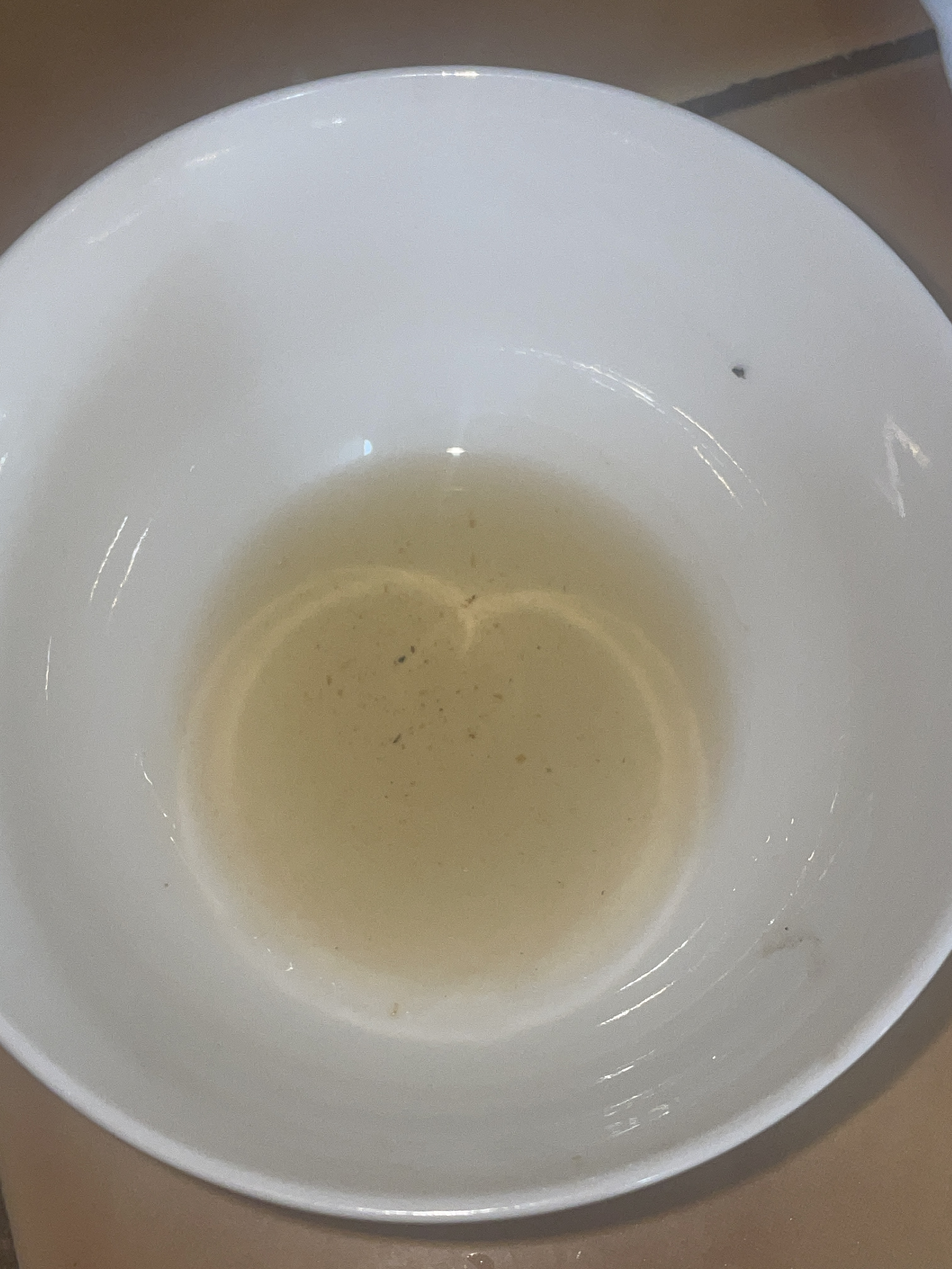reusable: (186, 460, 734, 979)
